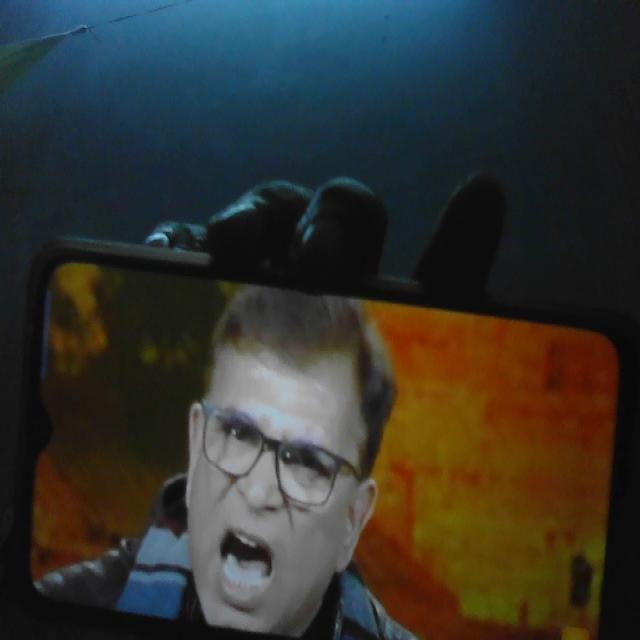fake: (172, 258, 377, 640)
